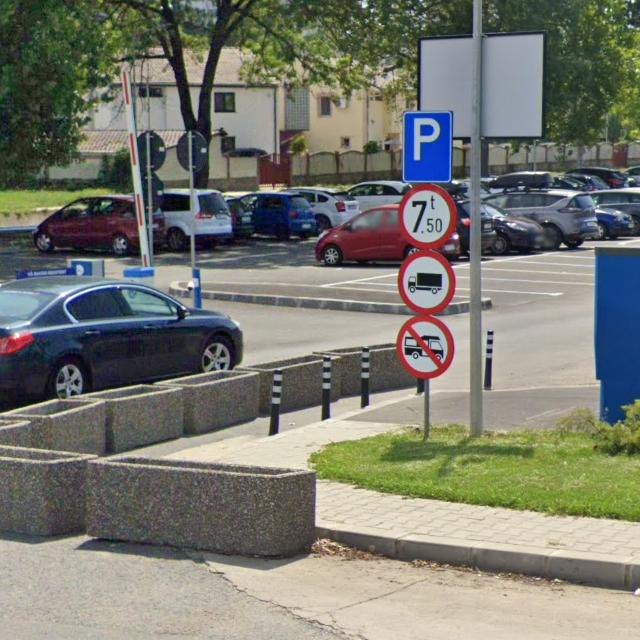forb_trucks: (397, 250, 456, 314)
forb_weight_over_7.5t: (401, 183, 456, 250)
info_parking: (402, 110, 454, 183)
